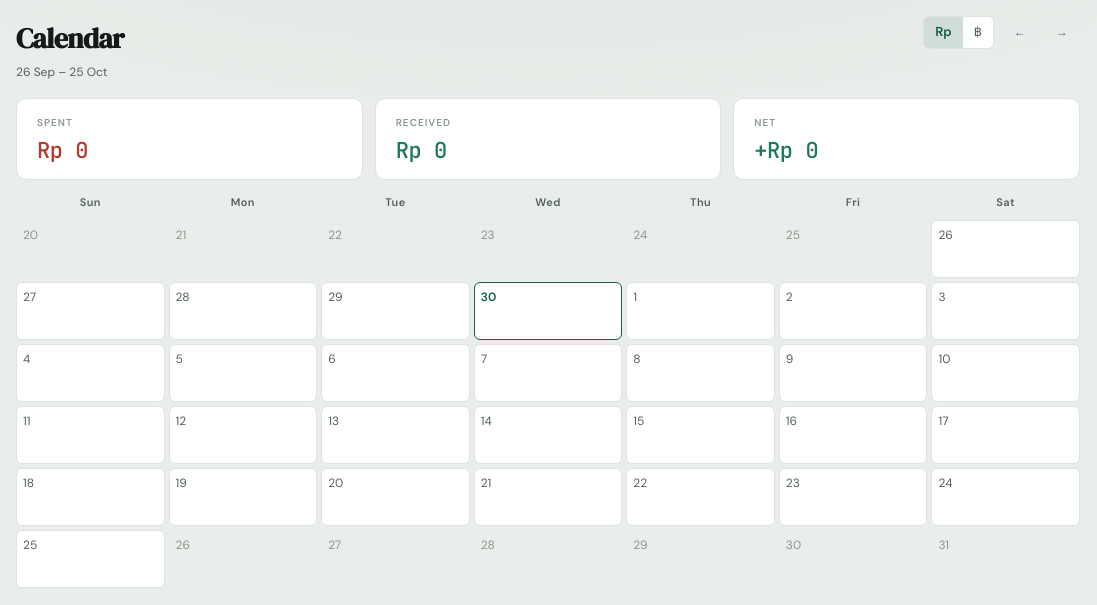
moves one pay cycle with the nav controls
Expected: the text "26 Sep – 25 Oct" is shown, [16,64,108,80]
Click the button named "Previous cycle": click(1020, 32) [1002,19,1038,45]
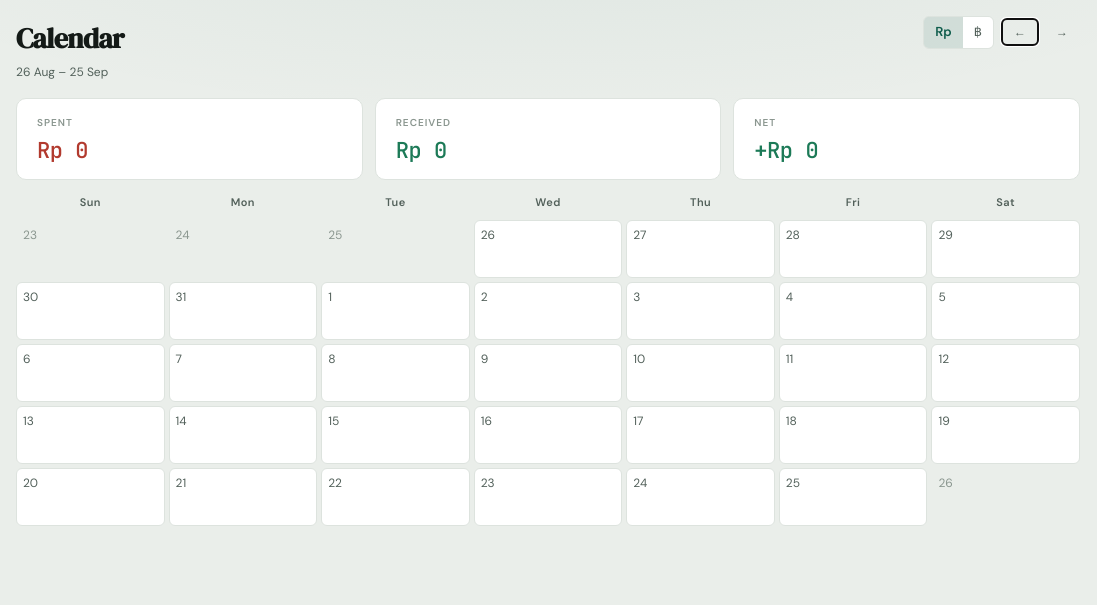
Now the text "26 Aug – 25 Sep" is shown, box [16,63,124,82]
